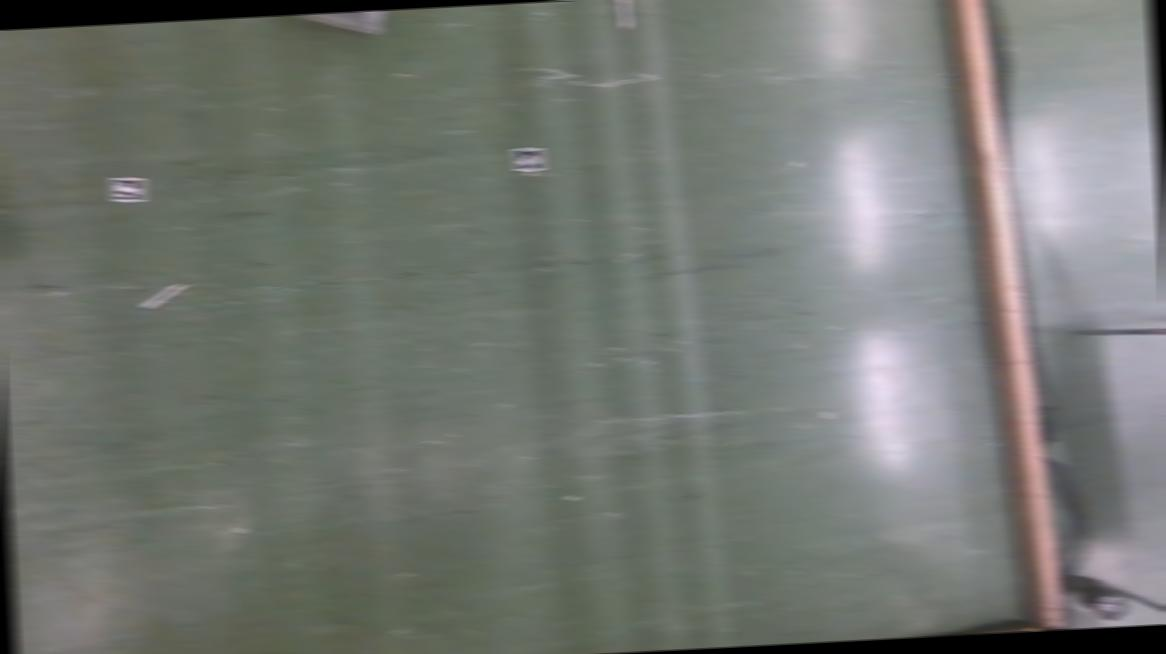probes: (142, 284, 187, 310), (616, 0, 632, 29)
rako: (284, 9, 404, 40)
